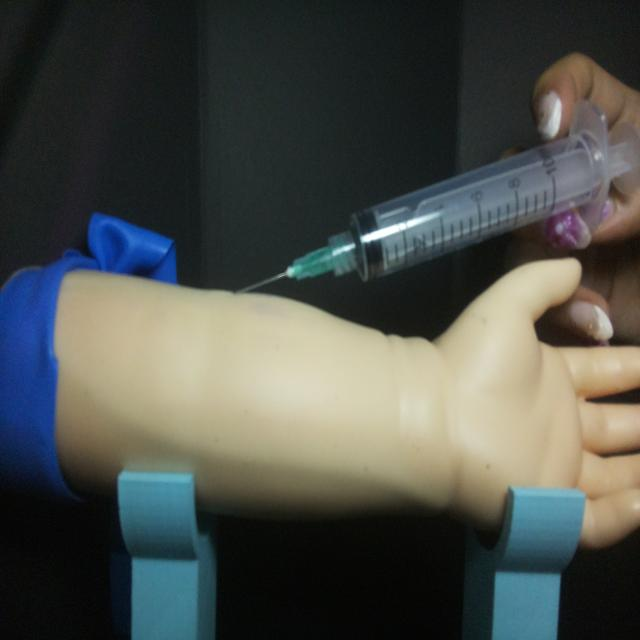21deg: (231, 95, 635, 298)
